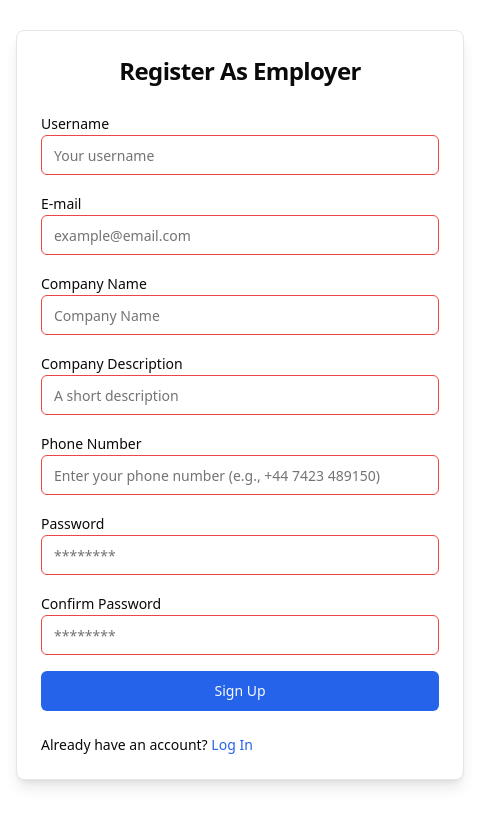
Company Signup Page › shows error when passwords do not match
Note: Fill form with non-matching passwords
Type "companyuser" into the field labelled "Username" at (240, 155), box [41,135,439,175]
Type "company@example.com" into the field labelled "E-mail" at (240, 235), box [41,215,439,255]
Type "Test Company" into the field labelled "Company Name" at (240, 315), box [41,295,439,335]
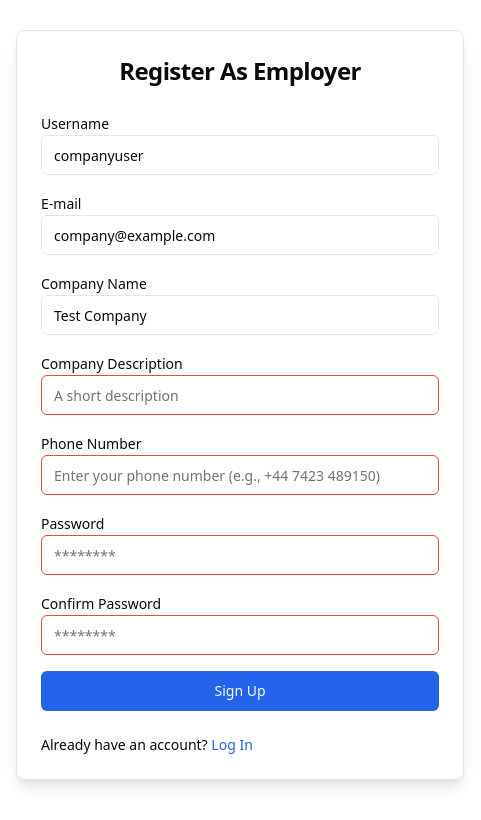
Type "A software company" into the field labelled "Company Description" at (240, 395), box [41,375,439,415]
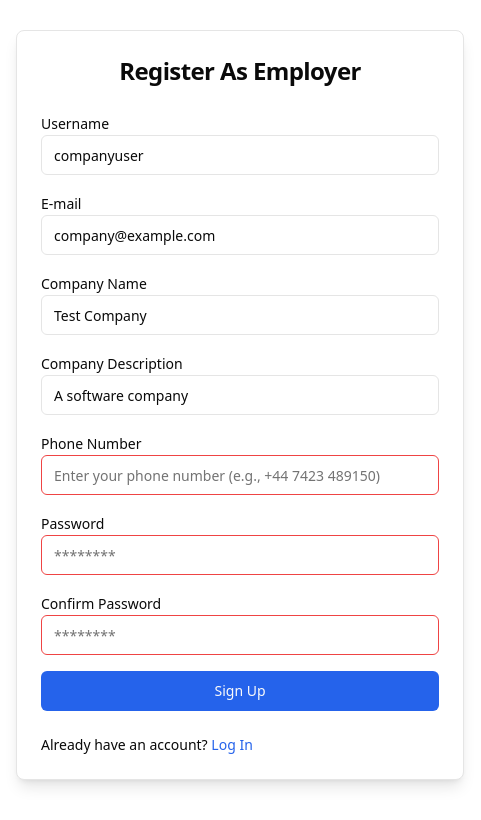
Type "+44 7423 489150" into the field labelled "Phone Number" at (240, 475), box [41,455,439,495]
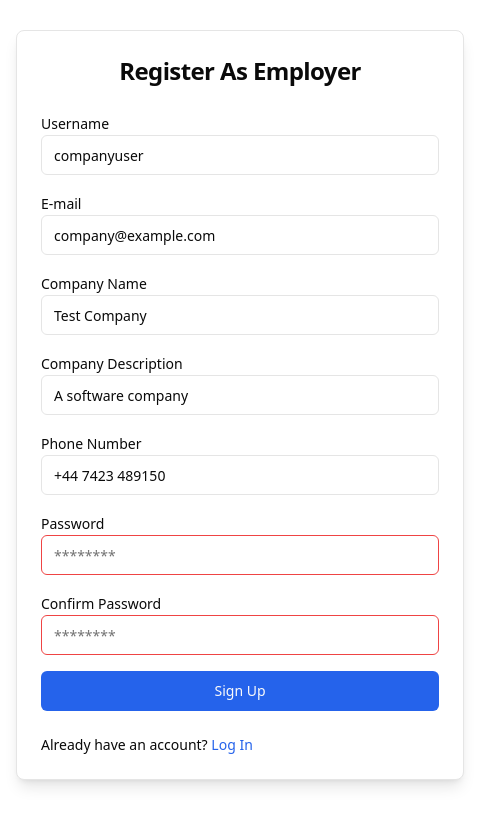
Type "password123" into the password field labelled "Password" at (240, 555), box [41,535,439,575]
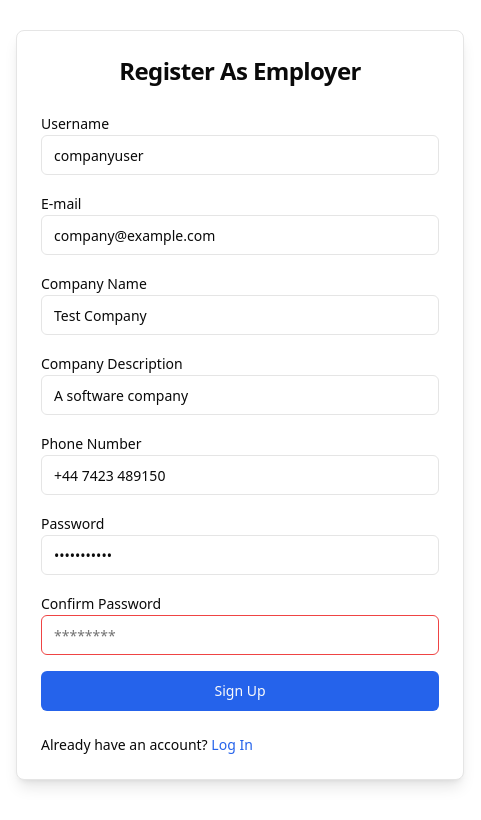
Type "password456" into the password field labelled "Confirm Password" at (240, 635), box [41,615,439,655]
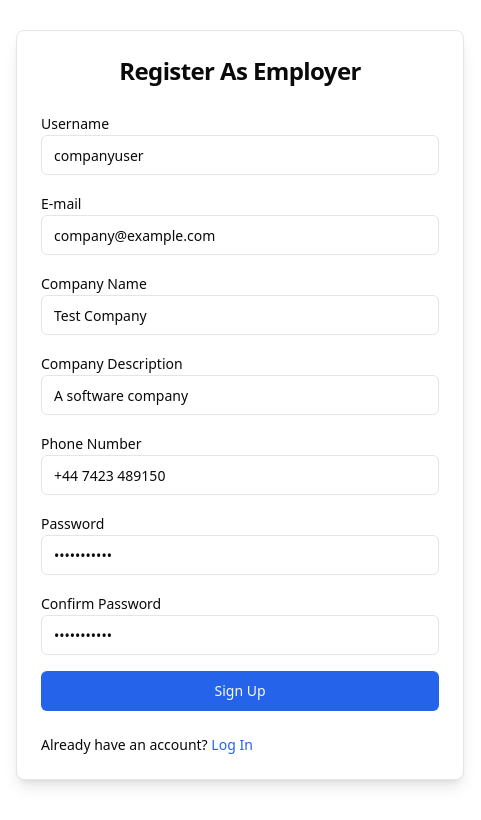
Note: Submit form
Submit the form from the button "Sign Up", box [41,671,439,711]
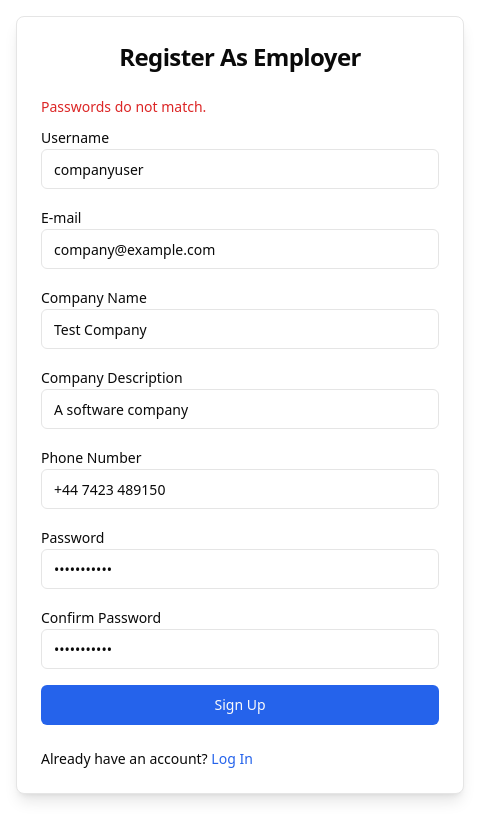
Result: the text "Passwords do not match." is shown at [41,97,206,116]
